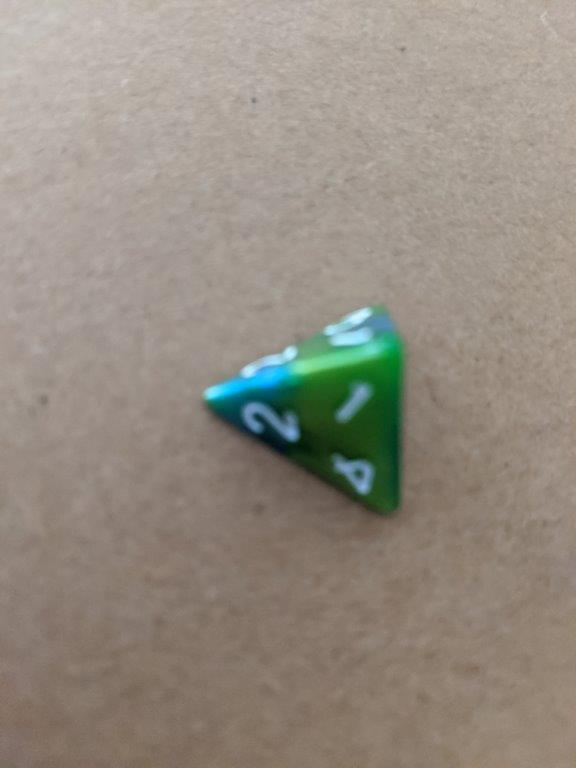d4-1: (196, 296, 405, 535)
